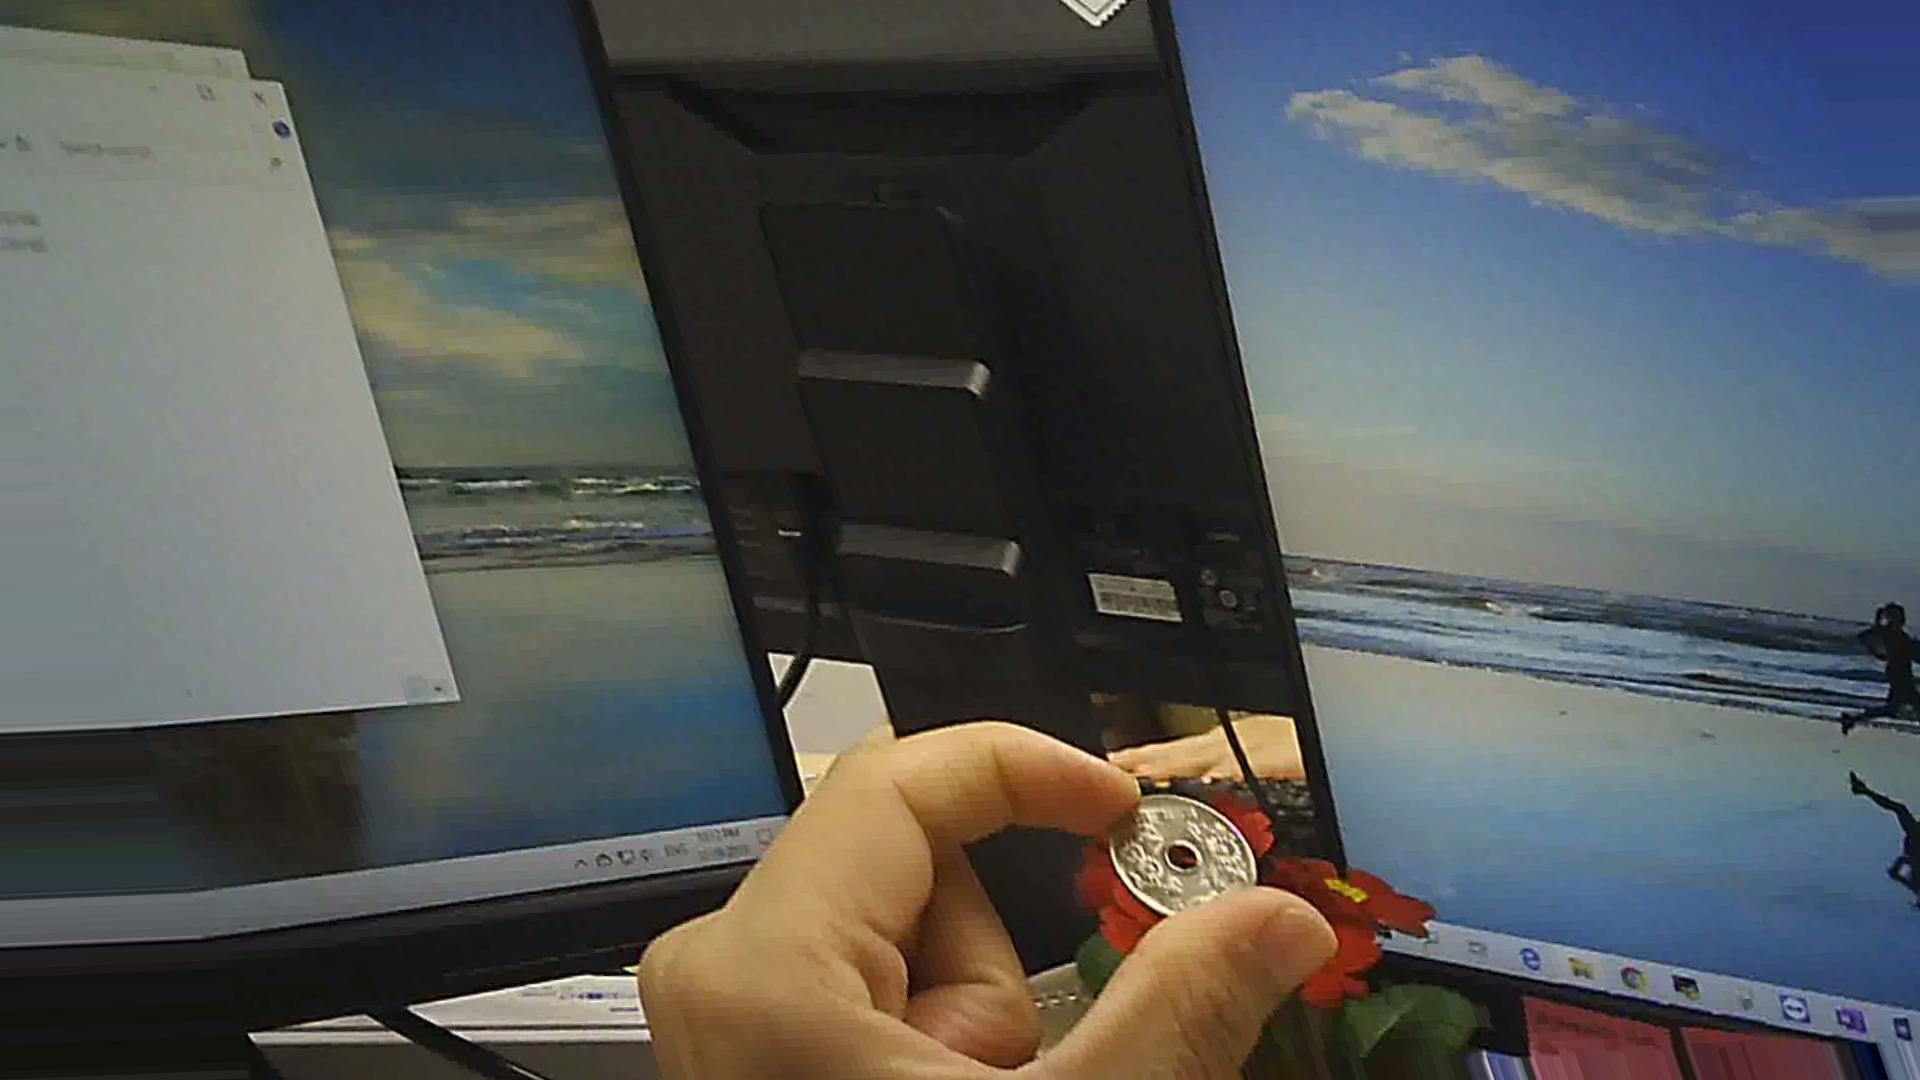50 Yen: (1085, 793, 1294, 927)
